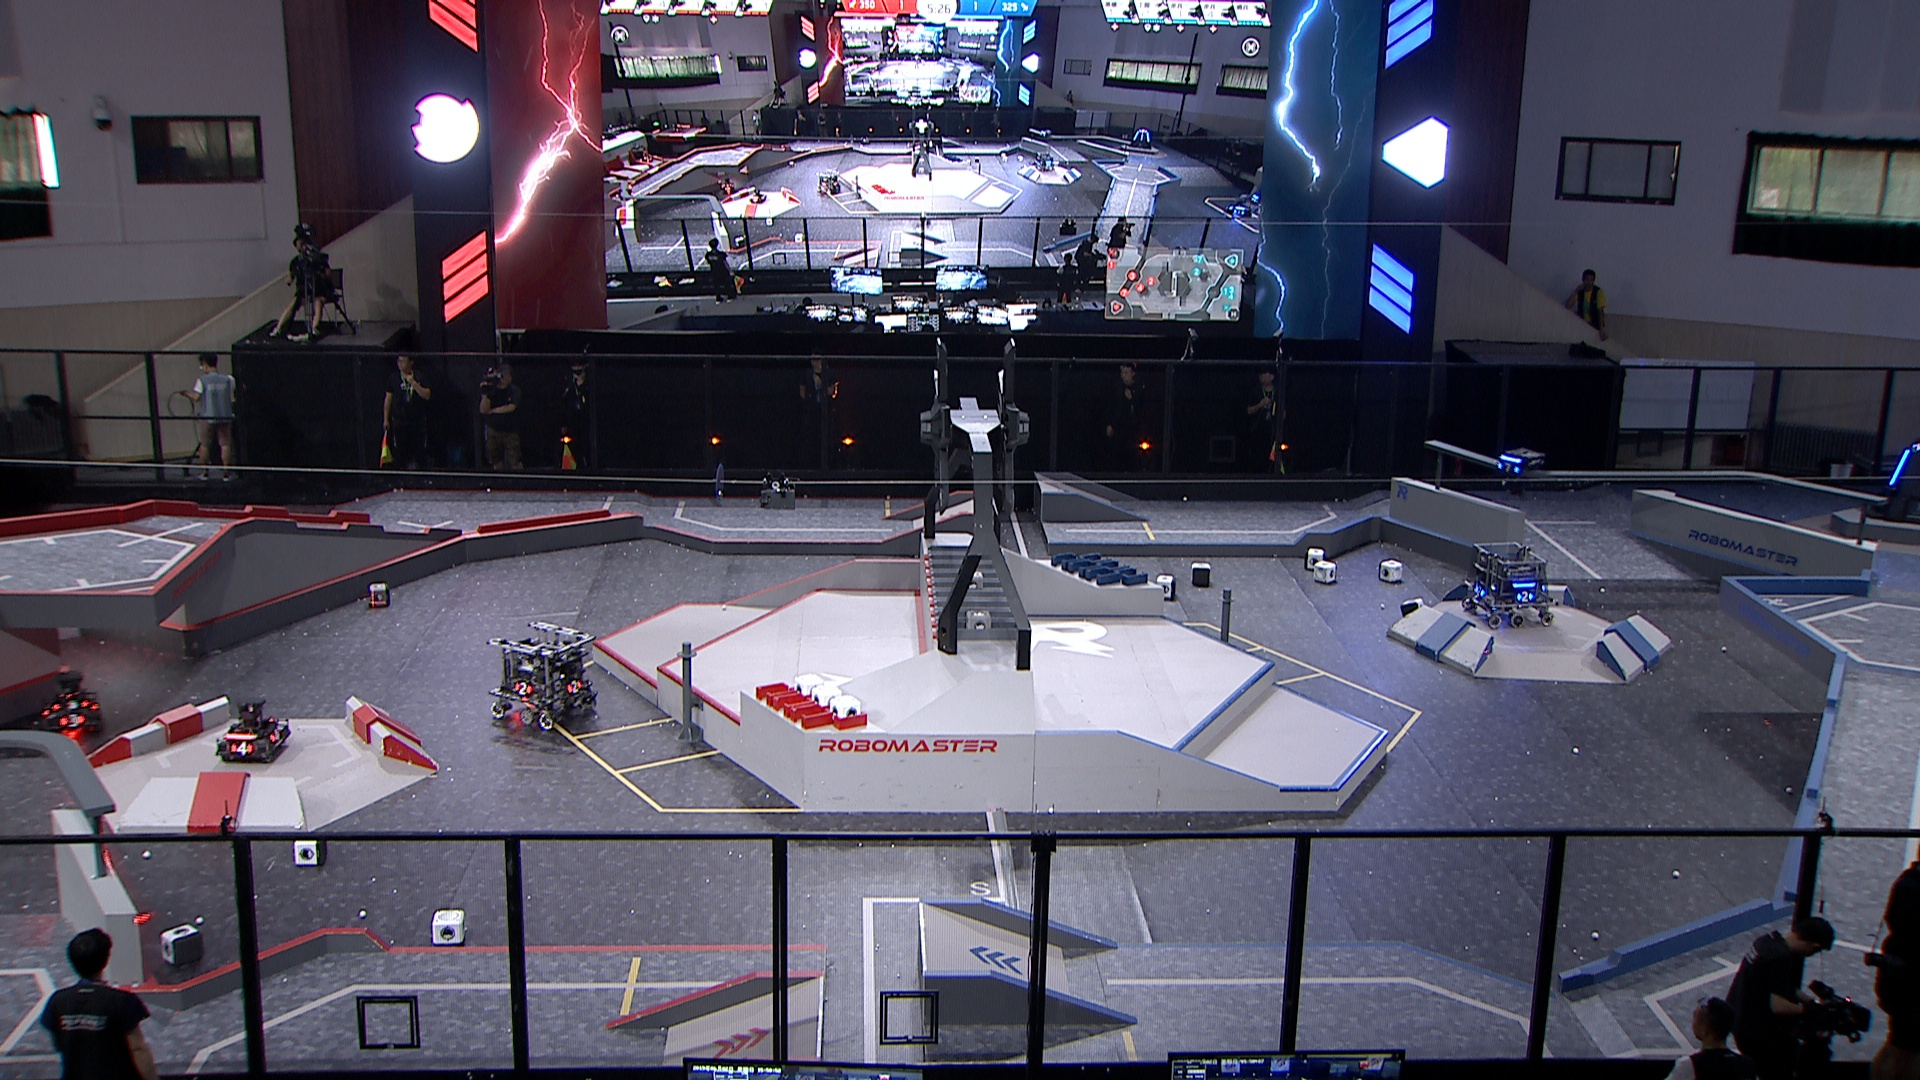armor: (1888, 447, 1913, 483), (57, 698, 83, 713), (513, 679, 534, 698), (231, 742, 253, 757), (564, 676, 584, 692), (59, 713, 80, 728), (1495, 462, 1516, 475), (269, 727, 285, 744), (1472, 583, 1489, 599), (1515, 589, 1534, 600)
base: (1865, 438, 1920, 526)
car: (491, 616, 596, 728), (1460, 541, 1557, 626), (211, 692, 291, 760), (36, 669, 103, 735)
ignore: (816, 169, 841, 195), (632, 144, 654, 167), (1033, 148, 1055, 171), (1129, 128, 1153, 148), (1230, 200, 1254, 220), (749, 187, 769, 204), (717, 175, 733, 193)
watcher: (1490, 444, 1547, 501)
